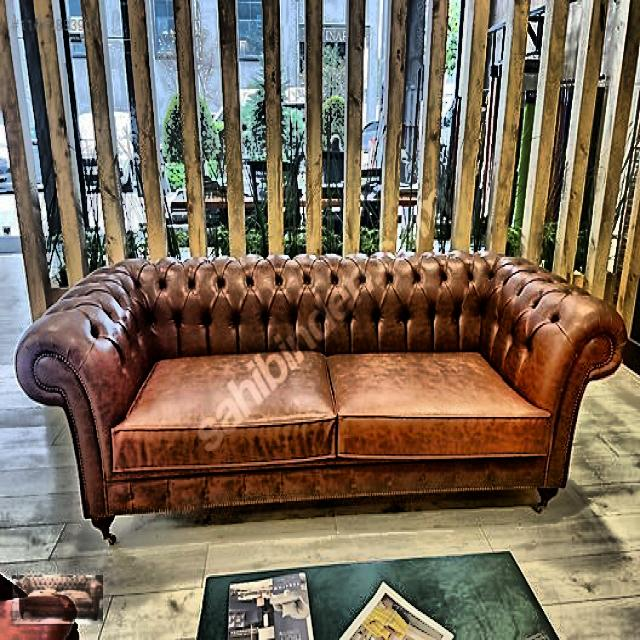sofa: (13, 247, 628, 543)
